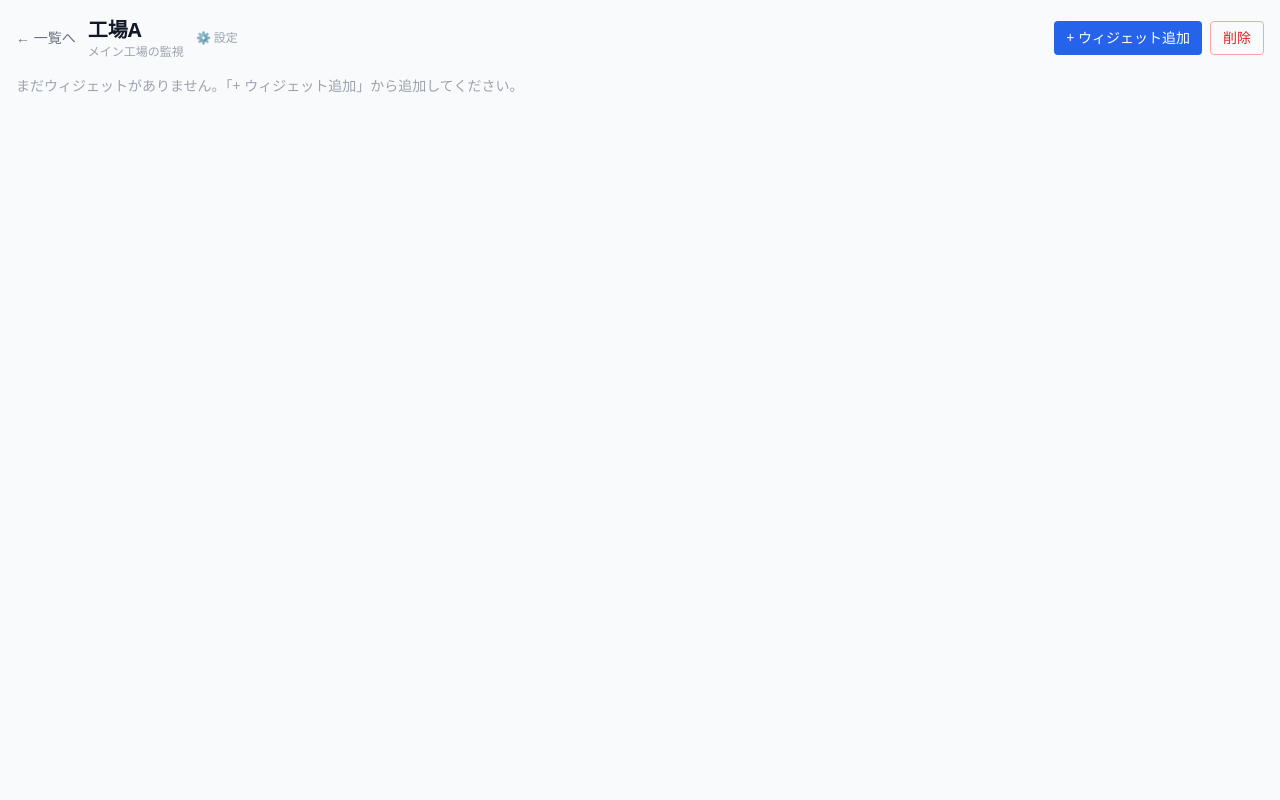
Test case: DashboardView › 設定ボタンを押すと設定モーダルが開く
This screenshot has width=1280, height=800.
Expected: the heading "工場A" is shown, [88,16,141,43]
Click the button with aria-label "ダッシュボード設定" at (217, 38), box [196,30,238,46]
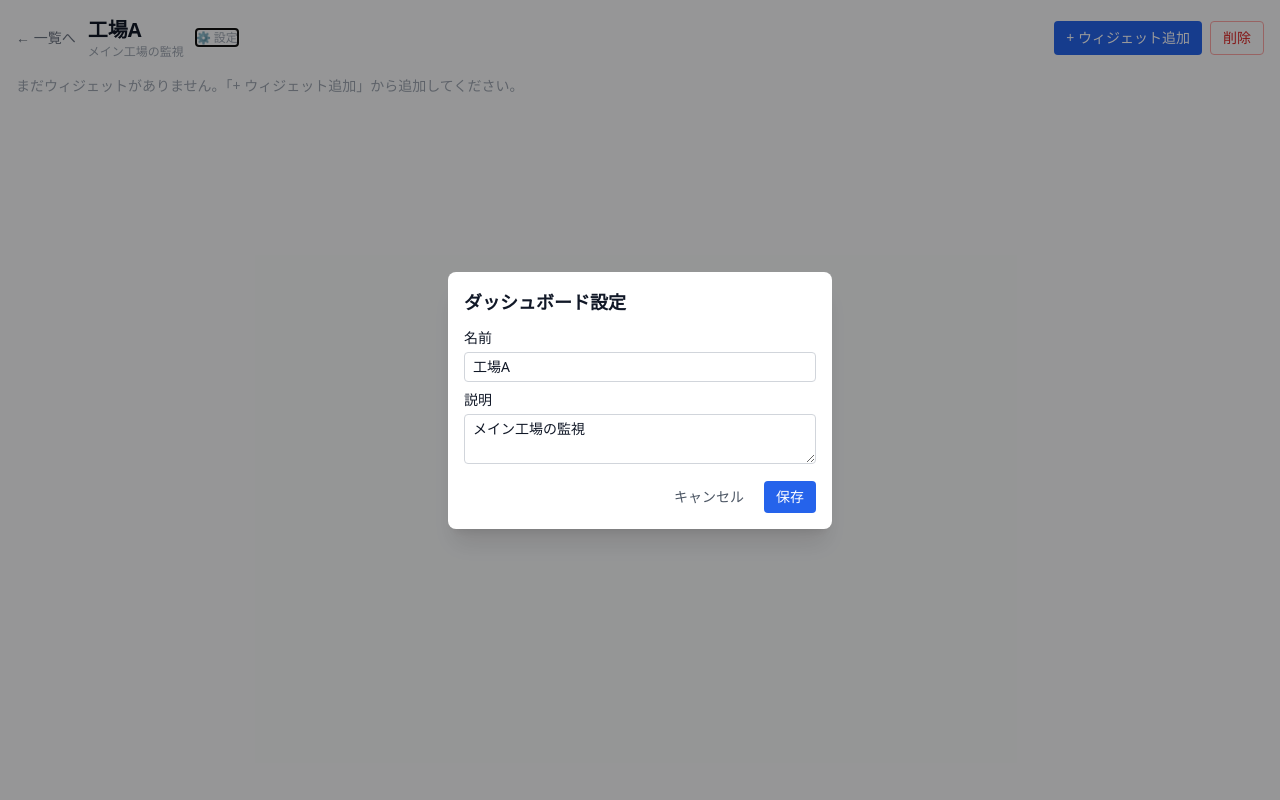
Now the heading "ダッシュボード設定" is shown, box [464,290,626,314]
Now the button "保存" is shown, box [764,480,816,512]
Now the button "キャンセル" is shown, box [662,480,756,512]
